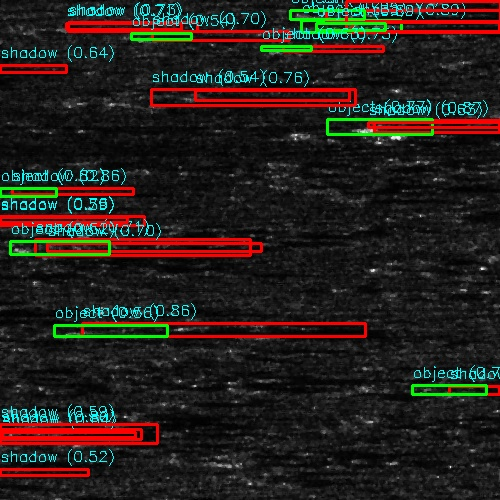rock: (299, 21, 434, 32), (5, 22, 130, 33), (351, 123, 424, 132), (0, 188, 66, 197), (302, 12, 365, 21), (421, 388, 484, 393), (145, 32, 176, 41), (482, 102, 500, 117), (469, 269, 480, 282)
shadow: (334, 12, 500, 21), (367, 21, 500, 32), (68, 22, 196, 33), (161, 32, 295, 41), (20, 188, 144, 197), (388, 123, 500, 132), (0, 431, 142, 438), (0, 62, 56, 77), (0, 314, 81, 323), (0, 470, 104, 475), (0, 230, 48, 239), (475, 269, 500, 282), (453, 388, 500, 393), (0, 74, 16, 81), (0, 219, 12, 224), (0, 296, 8, 301)
